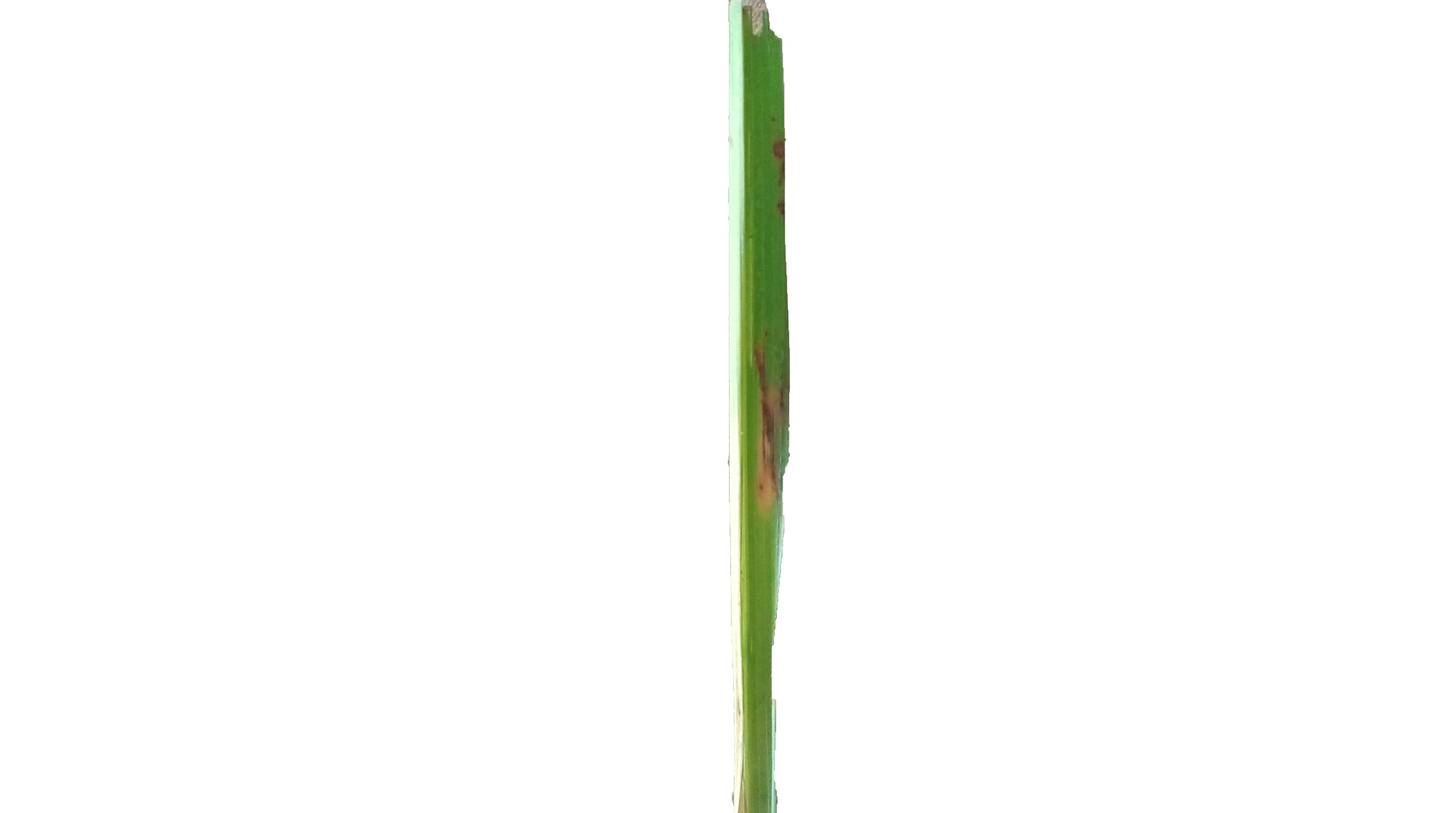Rice blast: (749, 337, 781, 509), (771, 130, 786, 227)
